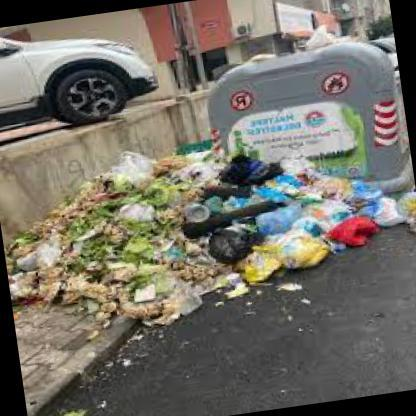Garbage: (138, 181, 370, 287), (61, 158, 221, 290), (108, 198, 272, 314), (208, 154, 270, 195)
